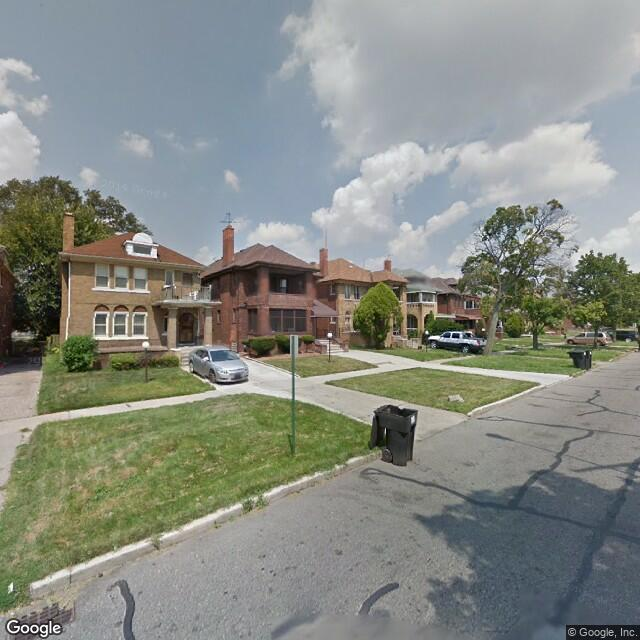litter: (6, 578, 18, 593), (447, 395, 464, 403)
